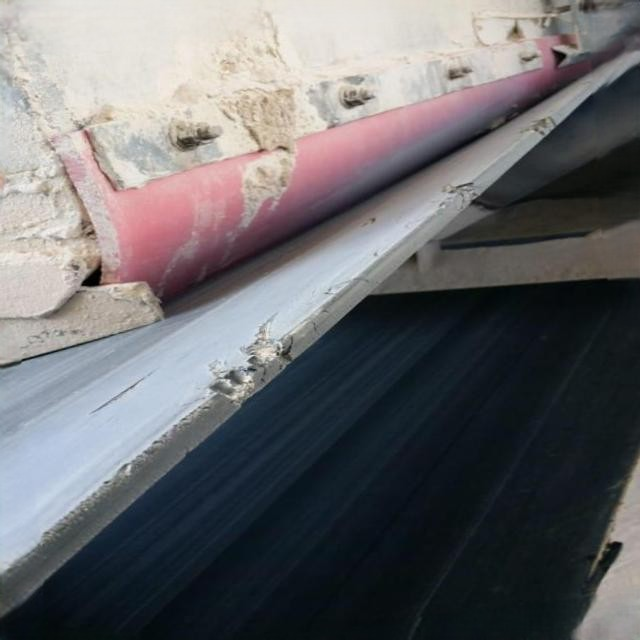Tear: (88, 354, 168, 426)
